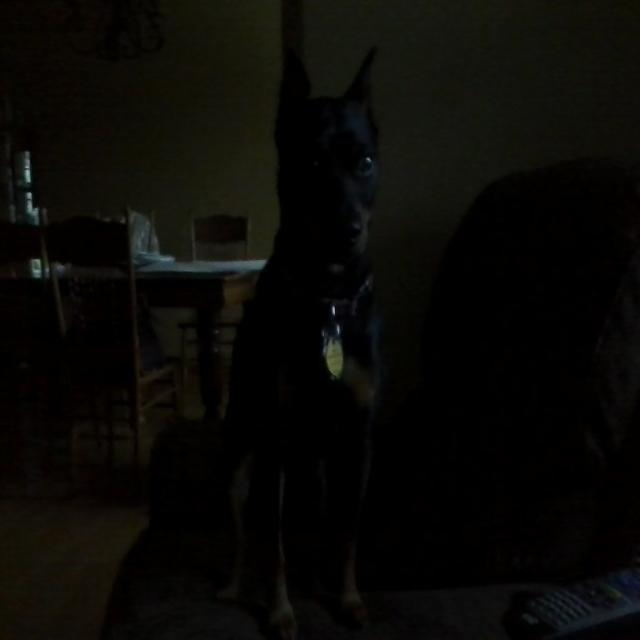dog: (202, 40, 437, 635), (506, 555, 509, 559)
